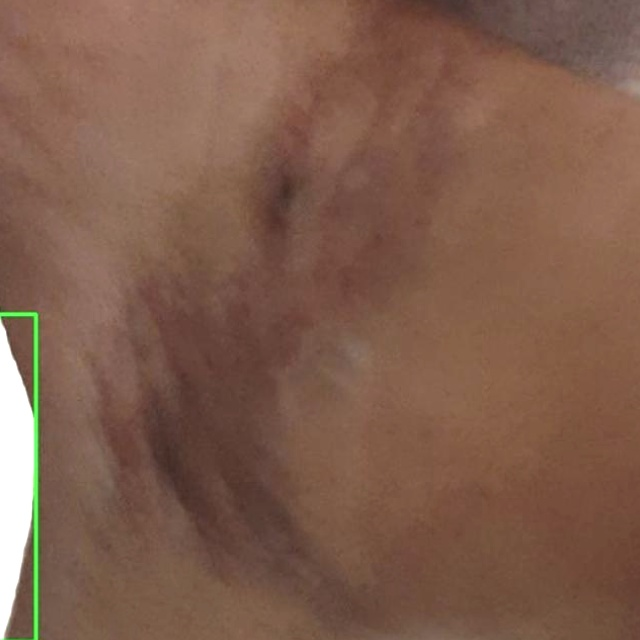Contact Dermatitis: (0, 314, 35, 639)
